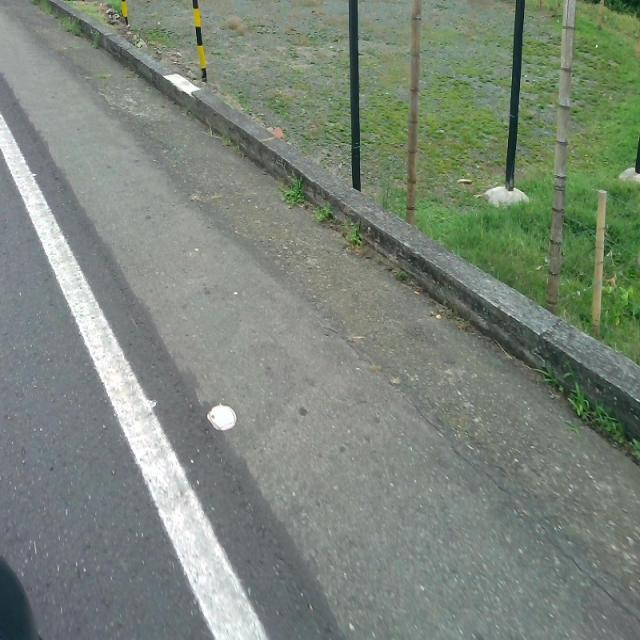DITCH: (1, 1, 638, 638), (56, 76, 638, 638)
